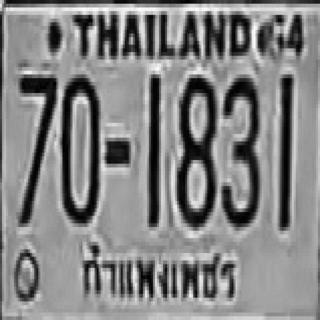N00: (60, 71, 99, 219)
N01: (277, 71, 291, 227), (146, 74, 160, 223)
N03: (220, 72, 259, 225)
N07: (18, 71, 56, 223)
N08: (175, 71, 215, 223)
P16: (75, 234, 240, 313)
